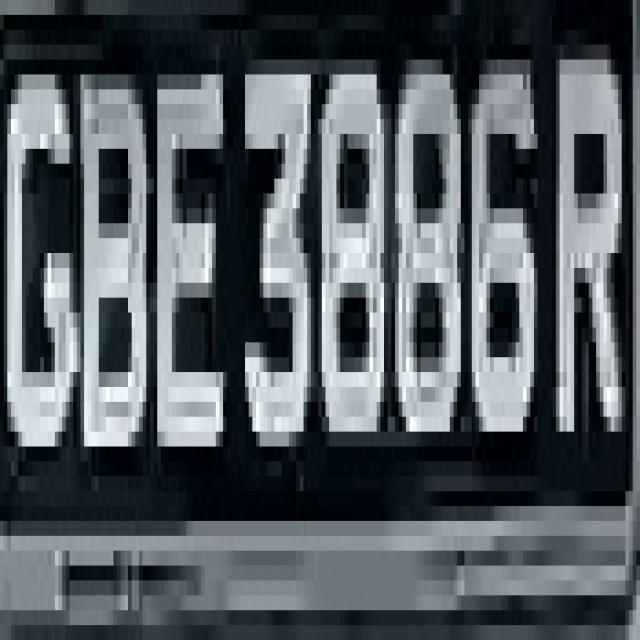3: (234, 15, 311, 476)
6: (460, 45, 538, 461)
8: (388, 30, 460, 491), (322, 75, 395, 491)
B: (73, 45, 146, 491)
E: (142, 0, 223, 476)
G: (7, 44, 73, 566)
R: (549, 29, 618, 432)
